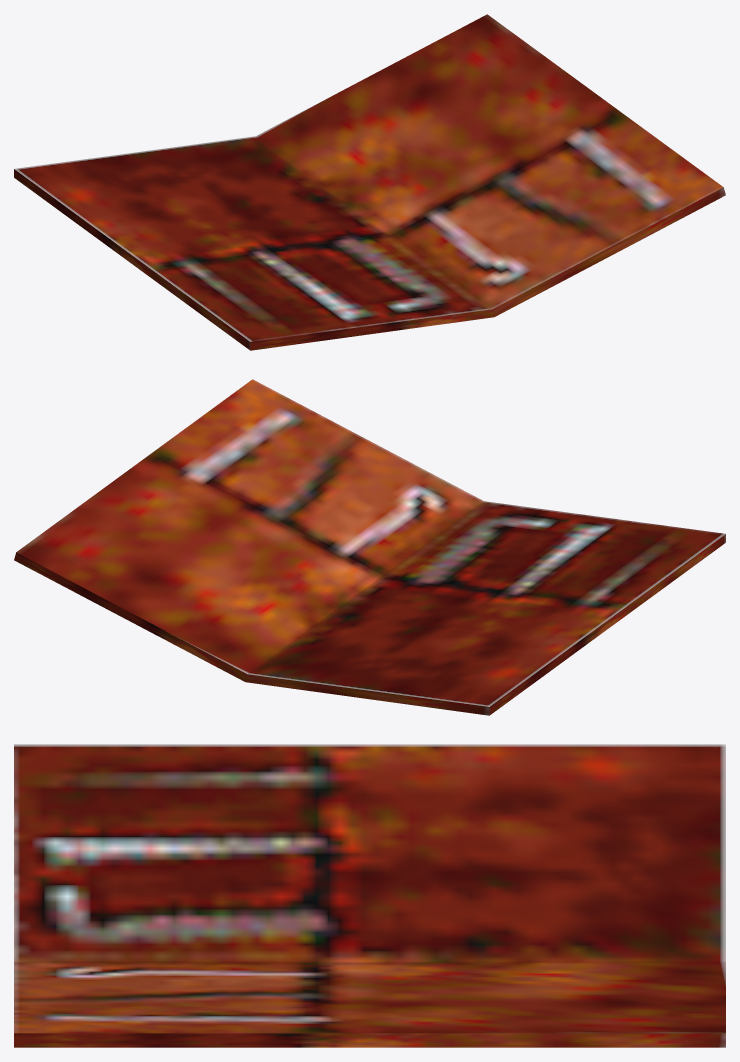
File: LPSet.obj
3 renders of one model, top to bottom at view 1: azimuth 30°, elevation 25°; view 2: azimuth 150°, elevation 25°; view 3: azimuth 270°, elevation 25°, orthographic. The views are drawn at different scales.
Parts seen in each view (by area): view 1: Box01; view 2: Box01; view 3: Box01.
Part boxes in pixels (x1,y1,x2,y2): Box01: (14,14,725,350); Box01: (14,379,725,715); Box01: (14,744,725,1047).
Bounding box in the file's own units: 24.44 × 3.63 × 21.05.
